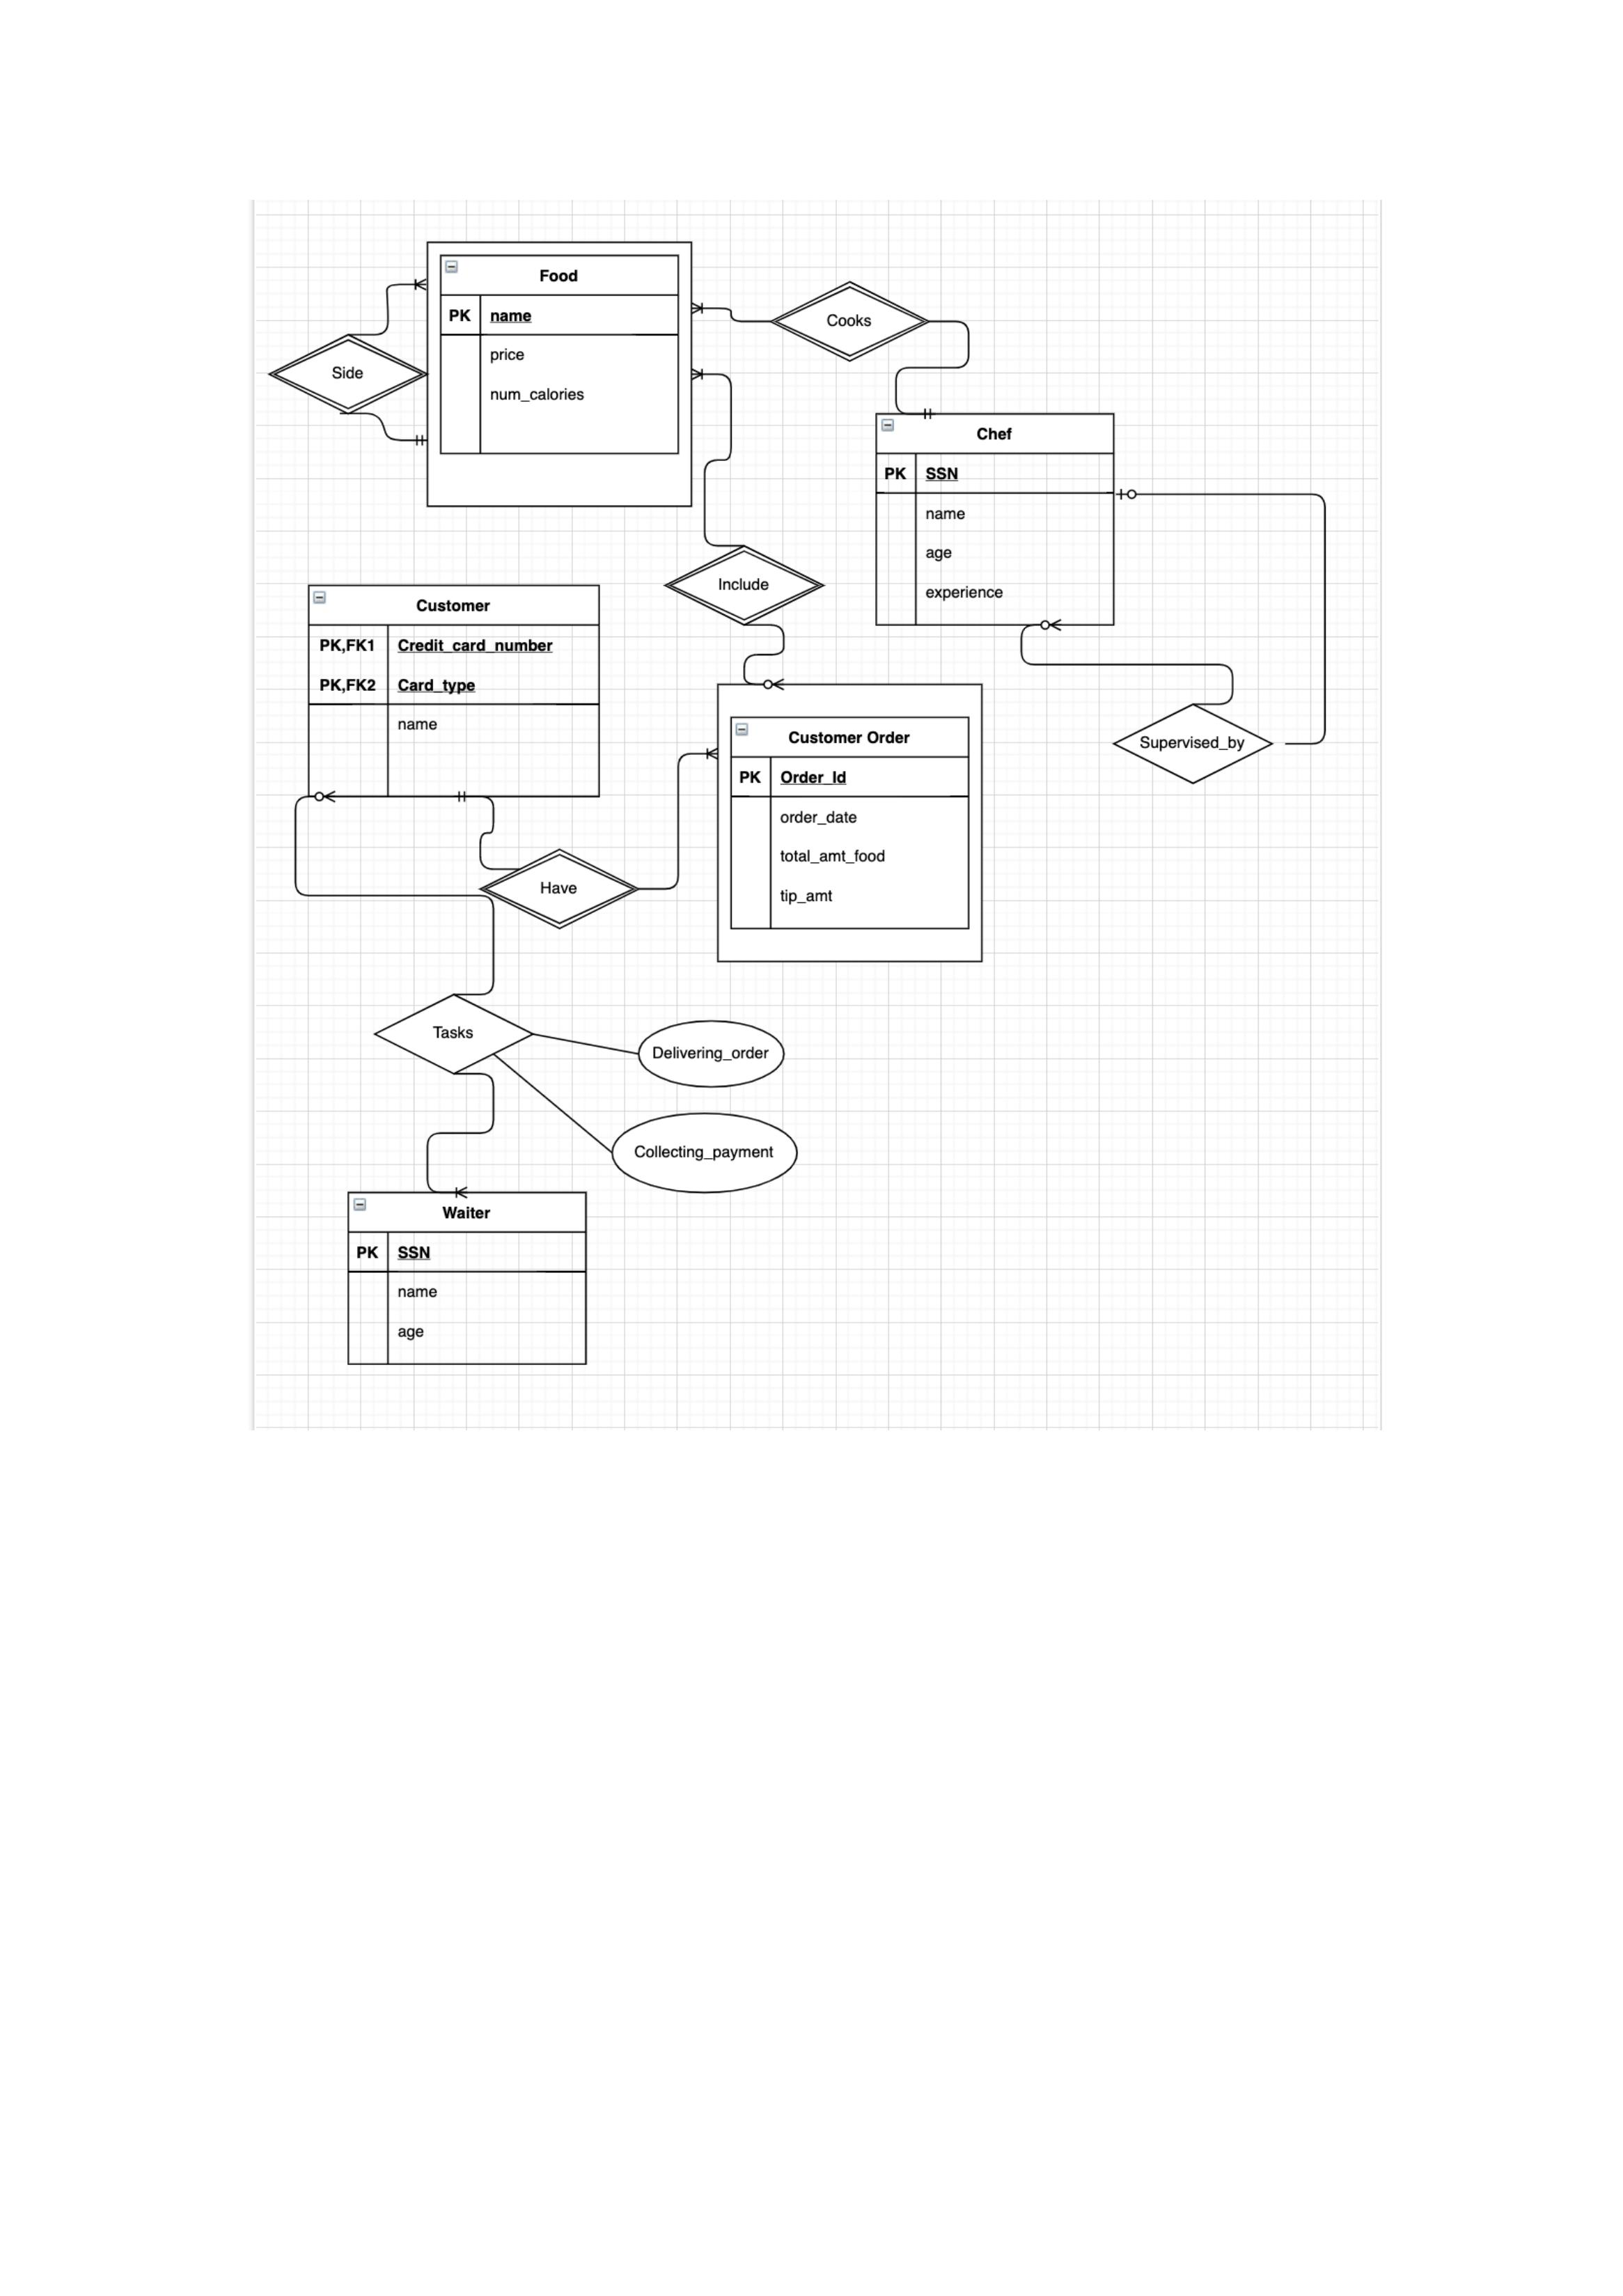Attribute: (611, 1112, 799, 1195), (638, 1019, 785, 1087)
Entity: (717, 682, 984, 964), (306, 583, 601, 799), (873, 411, 1117, 627), (439, 253, 682, 457), (346, 1191, 588, 1367)
Relationship: (662, 545, 827, 625), (267, 334, 427, 416), (769, 281, 931, 362), (1112, 703, 1273, 783), (480, 848, 638, 931), (374, 993, 532, 1073)
